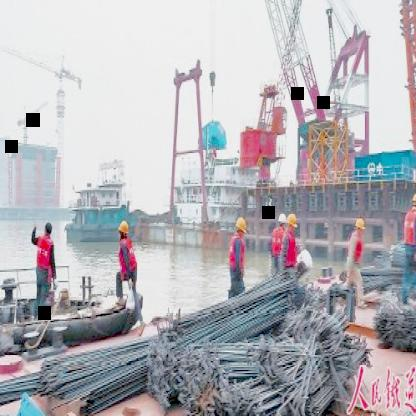head: (41, 218, 57, 240)
helmet: (233, 212, 248, 244), (354, 214, 366, 244), (287, 212, 299, 238), (118, 217, 128, 247), (277, 211, 289, 232), (411, 189, 416, 217)
